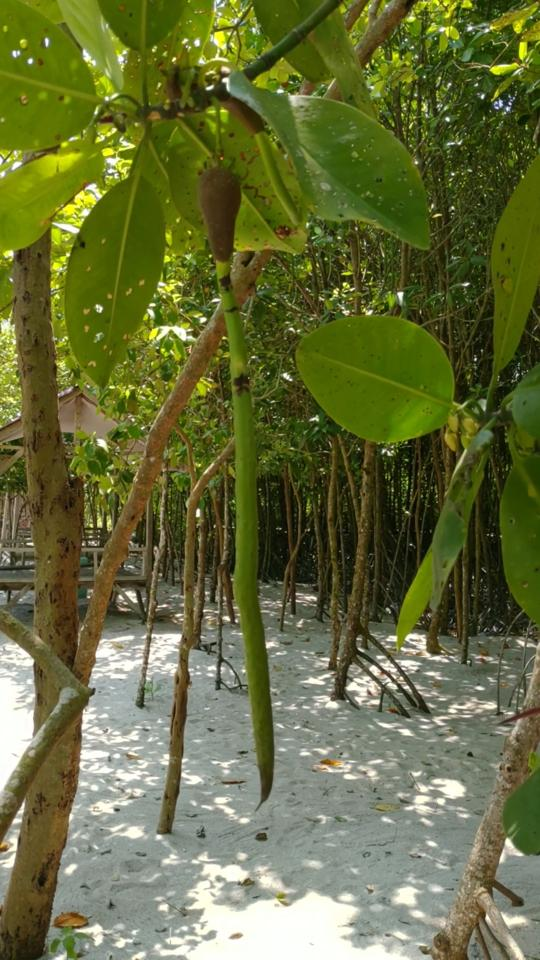mentah: (178, 137, 298, 823)
